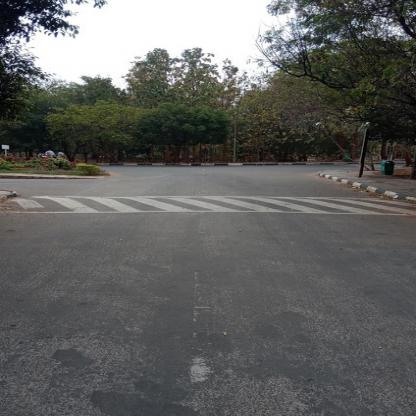speed-bumps: (0, 190, 415, 224)
